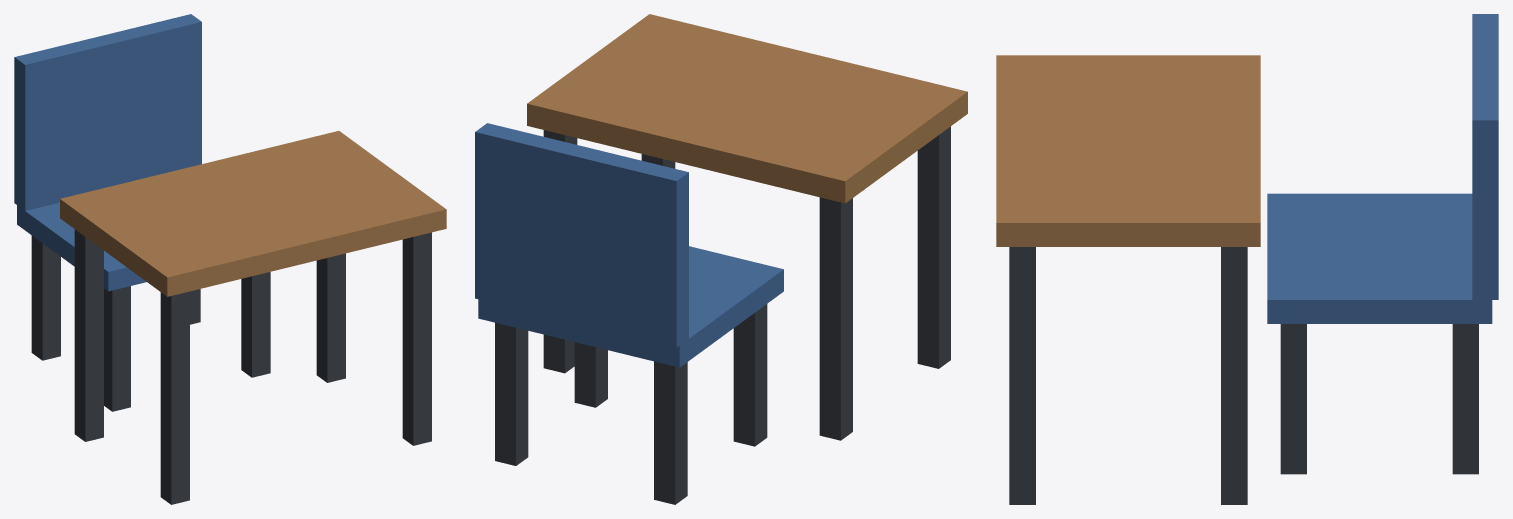
Rendered from esc-carteira.gltf.
3 renders of one model, left to right at view 1: azimuth 30°, elevation 25°; view 2: azimuth 150°, elevation 25°; view 3: azimuth 270°, elevation 25°, orthographic. The views are drawn at different scales.
Parts seen in each view (by area): view 1: esc-carteira; view 2: esc-carteira; view 3: esc-carteira.
Boxes of the visible parts, bbox=[...] form: esc-carteira: bbox=[14, 14, 446, 504]; esc-carteira: bbox=[475, 14, 967, 504]; esc-carteira: bbox=[996, 14, 1498, 504].
Bounding box in the file's own units: 0.6 × 0.6 × 0.76.
